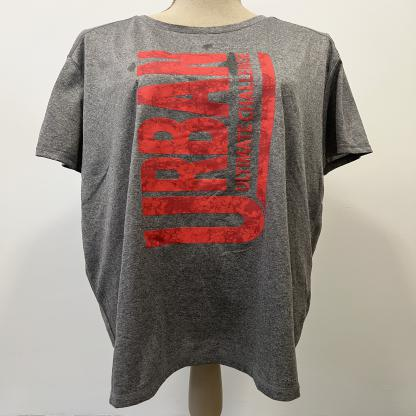stain: (216, 50, 248, 79), (125, 60, 139, 73), (200, 43, 216, 51)
